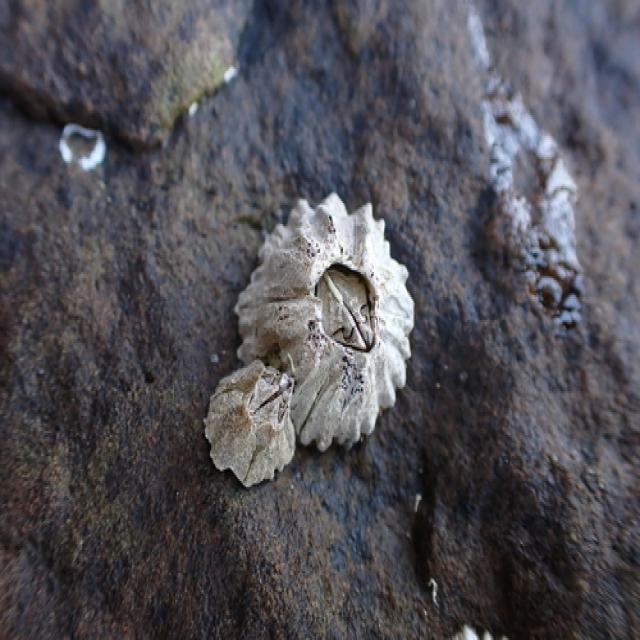barnacles: (242, 191, 413, 445), (204, 369, 300, 492)
